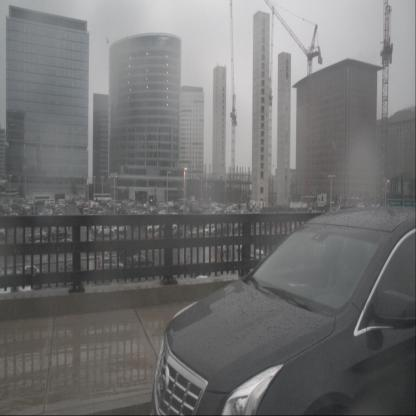cone: (104, 248, 108, 257)
